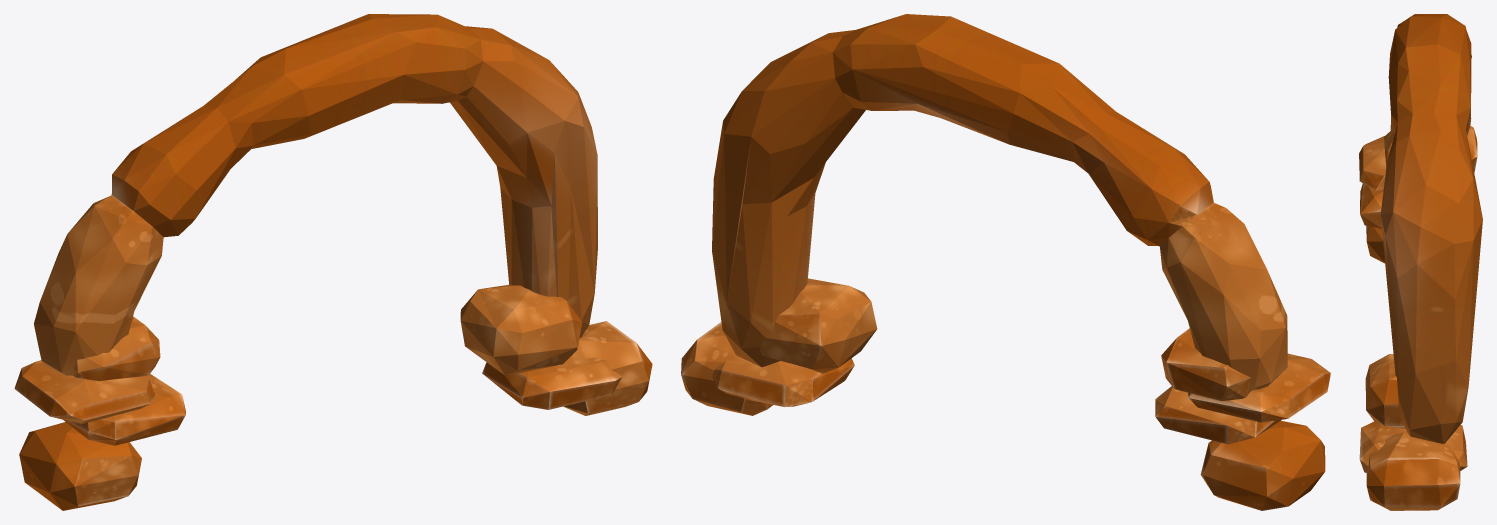
Rendered from CANYON_2.fbx.
3 renders of one model, left to right at view 1: azimuth 30°, elevation 25°; view 2: azimuth 150°, elevation 25°; view 3: azimuth 270°, elevation 25°, orthographic. The views are drawn at different scales.
Parts seen in each view (by area): view 1: Cube.001; view 2: Cube.001; view 3: Cube.001.
Part boxes in pixels (x1,y1,x2,y2): Cube.001: [14, 14, 652, 510]; Cube.001: [681, 14, 1330, 510]; Cube.001: [1359, 14, 1482, 510].
Size of the model in its own units: 3760 by 2549 by 767.
1 material, 1 textured.
